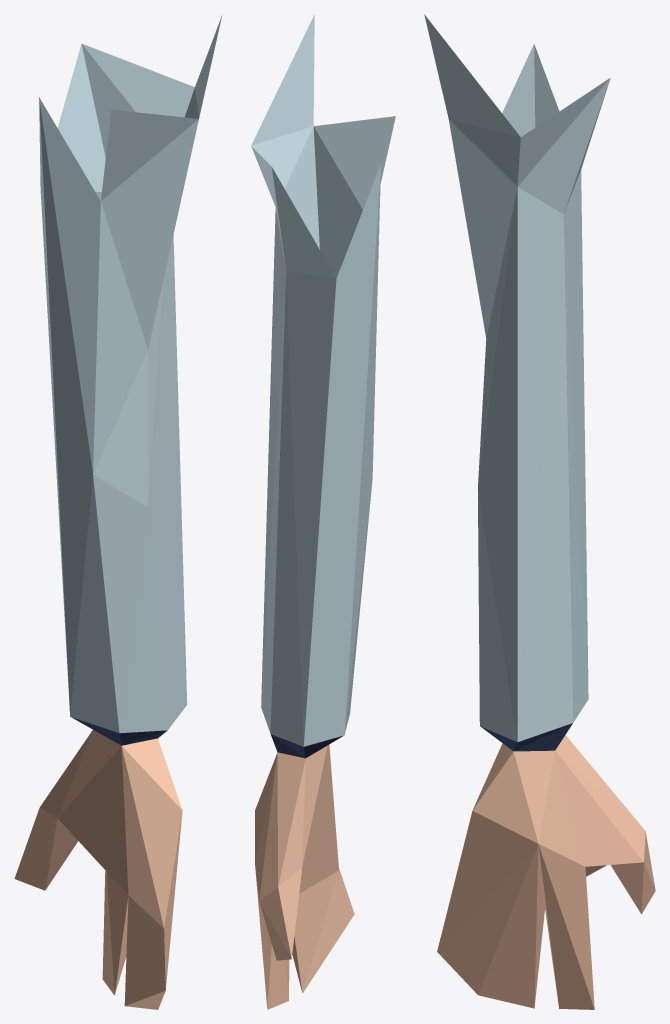
File: ArmR_Lo.obj
The picture shows the model from 3 angles, left to right: view 1: azimuth 30°, elevation 25°; view 2: azimuth 150°, elevation 25°; view 3: azimuth 270°, elevation 25°; orthographic projection. The views are drawn at different scales.
Bounding box in the file's own units: 0.1385 × 0.9077 × 0.1877.
1 material, 1 textured.
